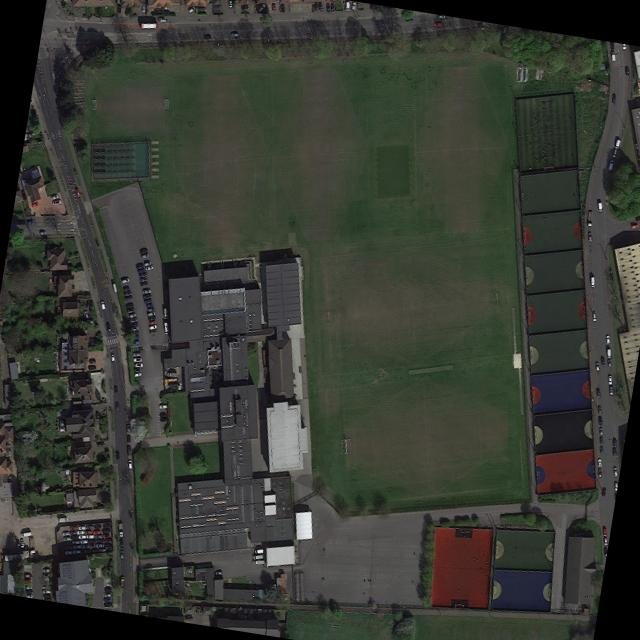large-vehicle: (29, 538, 36, 555), (140, 23, 158, 29), (118, 523, 124, 538), (588, 211, 593, 227), (167, 372, 178, 378), (120, 577, 125, 588), (598, 202, 603, 212)
small-vehicle: (608, 160, 615, 171), (21, 531, 32, 538), (258, 4, 266, 13), (164, 322, 169, 336), (52, 199, 62, 206), (615, 139, 621, 150), (188, 6, 196, 14), (129, 317, 138, 324), (124, 295, 133, 302), (121, 278, 130, 285), (139, 276, 148, 283), (139, 248, 148, 255), (50, 194, 59, 201), (106, 321, 111, 333), (84, 310, 90, 320), (100, 301, 106, 311), (163, 308, 168, 320), (351, 2, 357, 12), (75, 188, 81, 198), (612, 148, 618, 158), (127, 445, 132, 457), (128, 312, 136, 319), (144, 298, 152, 305), (123, 286, 131, 293), (136, 263, 144, 270), (608, 375, 613, 386), (613, 467, 618, 478), (253, 560, 264, 565), (125, 303, 134, 309), (126, 308, 135, 314), (123, 291, 132, 297), (143, 294, 152, 300), (147, 311, 156, 317), (145, 265, 154, 271), (125, 7, 131, 16), (133, 372, 142, 378), (104, 543, 113, 549), (86, 300, 91, 310), (592, 312, 597, 322), (596, 389, 601, 399), (611, 52, 616, 62), (20, 540, 25, 550), (253, 555, 263, 560), (254, 549, 264, 554), (144, 261, 151, 268), (32, 202, 39, 209), (29, 131, 36, 138), (131, 326, 139, 332), (130, 322, 138, 328), (140, 281, 148, 287), (139, 272, 147, 278), (149, 324, 157, 330), (591, 277, 595, 289), (147, 307, 155, 313), (148, 315, 156, 321), (149, 320, 157, 326), (138, 268, 146, 274), (241, 5, 249, 11), (154, 9, 162, 15), (141, 253, 149, 259), (43, 593, 51, 599), (142, 289, 151, 294), (318, 2, 323, 11), (117, 5, 122, 14), (434, 22, 443, 27), (73, 545, 82, 550), (64, 546, 73, 551), (601, 488, 606, 497), (82, 549, 91, 554), (59, 518, 68, 523), (115, 451, 120, 460), (126, 424, 131, 433), (159, 405, 168, 410), (96, 538, 105, 543), (72, 540, 81, 545), (612, 94, 616, 105), (632, 224, 639, 230), (135, 363, 143, 368), (134, 358, 142, 363), (133, 352, 141, 357), (132, 340, 140, 345), (134, 368, 142, 373), (150, 329, 158, 334), (588, 232, 592, 242), (606, 335, 610, 345), (607, 349, 611, 359), (596, 362, 600, 372), (598, 417, 602, 427), (613, 438, 617, 448), (346, 2, 350, 12), (331, 3, 335, 13), (272, 3, 276, 13), (203, 35, 211, 40), (214, 4, 222, 9), (142, 3, 146, 13), (438, 15, 446, 20), (610, 42, 615, 50), (88, 365, 96, 370), (25, 590, 33, 595), (24, 578, 32, 583), (16, 540, 20, 550), (598, 468, 602, 478), (604, 547, 608, 557), (87, 319, 95, 324), (215, 571, 223, 576), (120, 550, 124, 560), (104, 597, 112, 602), (99, 548, 107, 553), (91, 549, 99, 554), (77, 530, 85, 535), (103, 524, 111, 529), (94, 524, 102, 529), (128, 460, 132, 470), (97, 442, 105, 447), (160, 417, 168, 422), (88, 539, 96, 544), (80, 539, 88, 544), (608, 359, 612, 368), (601, 358, 605, 367), (609, 386, 613, 395), (598, 405, 602, 414), (599, 436, 603, 445), (314, 2, 318, 11), (281, 4, 285, 13), (230, 33, 239, 37), (625, 67, 629, 76), (600, 446, 604, 455), (598, 459, 602, 468), (603, 528, 607, 537), (604, 537, 608, 546), (103, 603, 112, 607), (102, 529, 111, 533), (127, 435, 131, 444), (96, 412, 100, 421), (96, 544, 105, 548), (89, 359, 96, 364), (132, 331, 139, 336), (146, 303, 153, 308), (82, 545, 89, 550), (25, 585, 32, 590), (25, 574, 32, 579), (406, 17, 413, 22), (85, 530, 92, 535), (87, 525, 94, 530), (62, 531, 69, 536), (105, 538, 112, 543), (103, 534, 110, 539), (111, 354, 115, 362), (599, 428, 603, 436), (229, 0, 233, 8), (198, 8, 206, 12), (18, 221, 26, 225), (65, 551, 73, 555), (43, 590, 51, 594), (43, 573, 51, 577), (43, 569, 51, 573), (613, 448, 617, 456), (73, 550, 81, 554), (90, 339, 94, 347), (104, 588, 112, 592), (93, 531, 101, 535), (78, 526, 86, 530), (70, 526, 78, 530), (114, 386, 118, 394), (63, 537, 71, 541), (95, 535, 103, 539), (327, 3, 330, 13), (635, 217, 640, 223), (27, 221, 34, 225), (185, 616, 192, 620), (104, 594, 111, 598), (71, 535, 78, 539), (69, 531, 76, 535), (79, 535, 86, 539), (87, 535, 94, 539), (120, 540, 123, 549), (40, 231, 46, 235), (164, 6, 170, 10), (116, 402, 119, 410), (160, 414, 167, 417), (90, 544, 95, 548), (164, 11, 170, 14), (276, 0, 280, 3)
